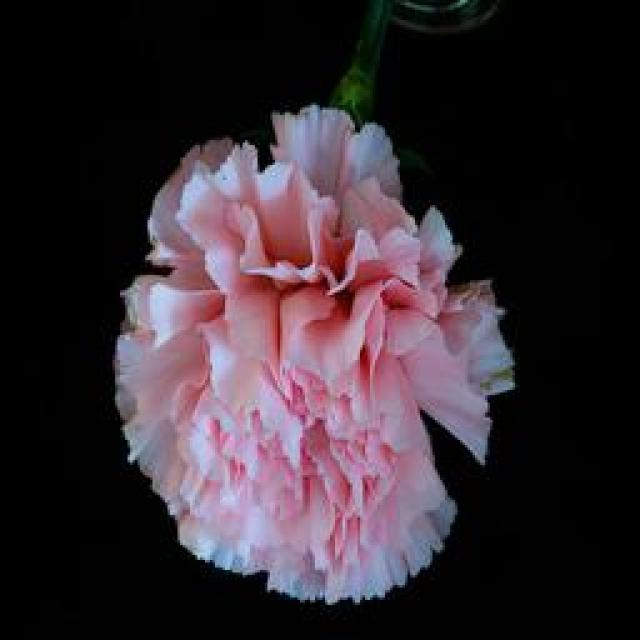carnation: (86, 119, 516, 611)
